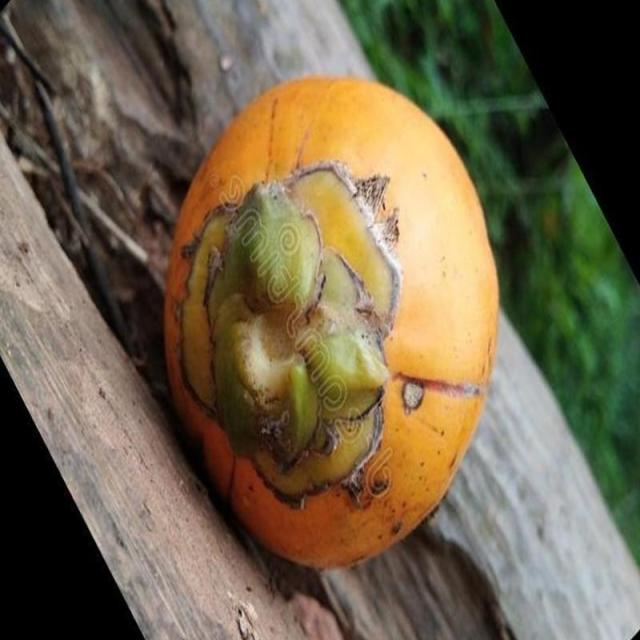good: (160, 77, 502, 576)
